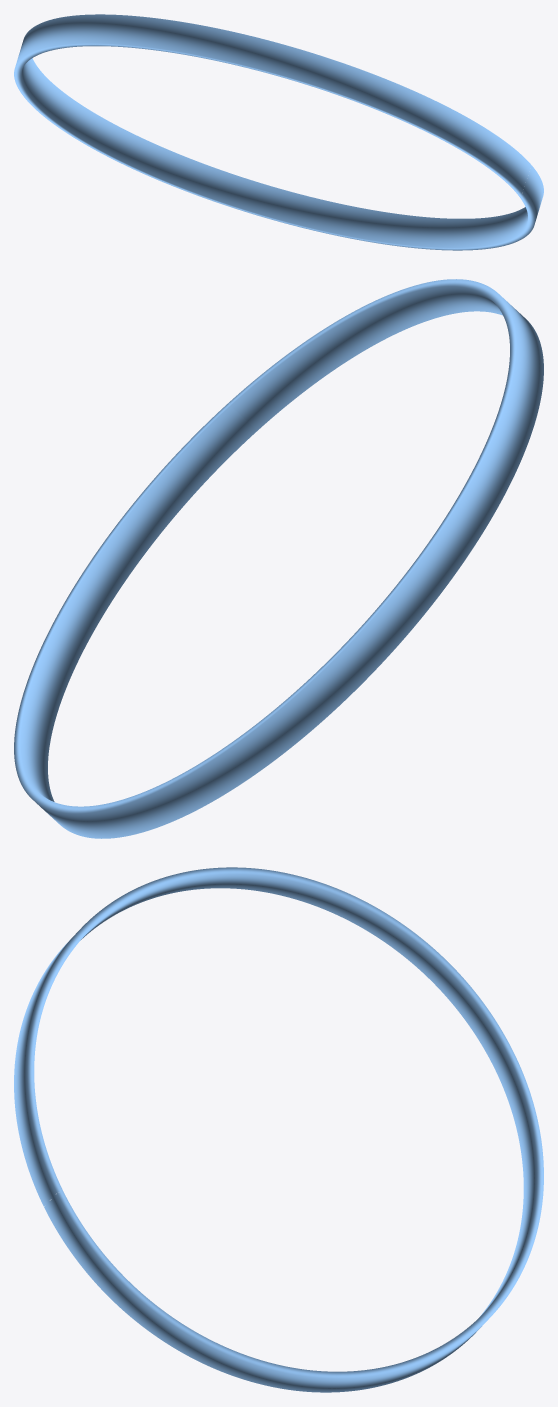
The model's file is coil_coil_13_tube.gltf.
3 views of the same model, one above another, from view 1: azimuth 30°, elevation 25°; view 2: azimuth 150°, elevation 25°; view 3: azimuth 270°, elevation 25° (orthographic). The views are drawn at different scales.
Visible parts, largest first — view 1: Renderer Node; view 2: Renderer Node; view 3: Renderer Node.
Part boxes in pixels (<box>): Renderer Node: <box>14,14,543,250</box>; Renderer Node: <box>14,279,543,838</box>; Renderer Node: <box>14,867,543,1392</box>.
Bounding box in the file's own units: 0.5255 × 0.4428 × 0.5709.
